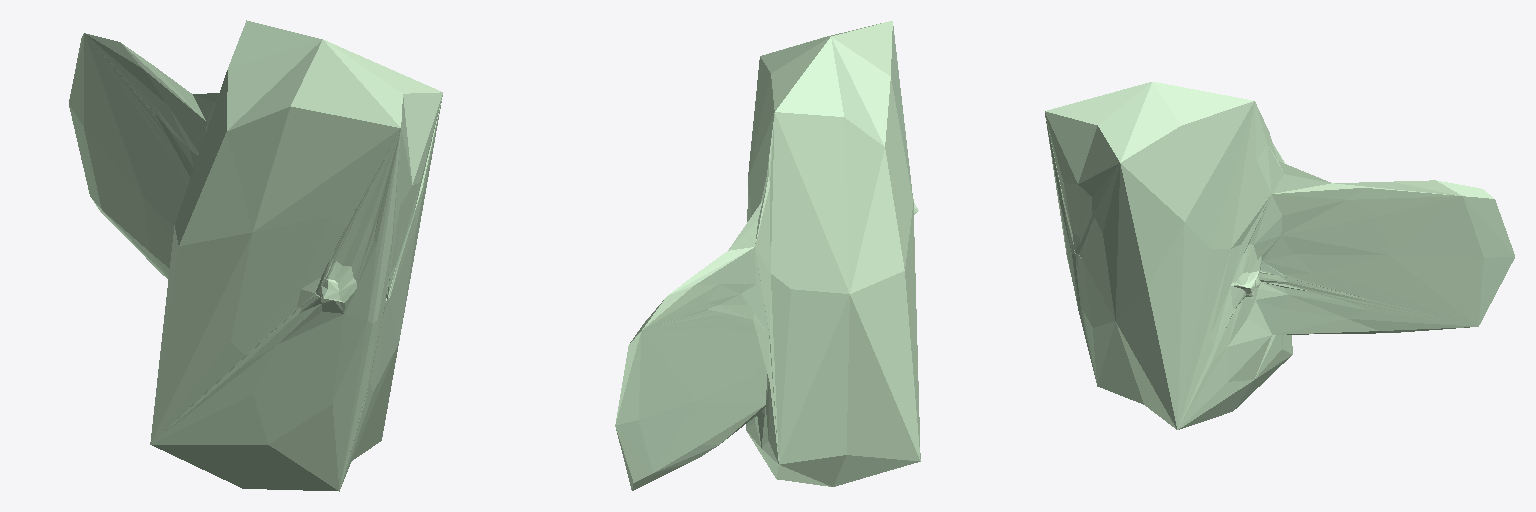
URDF robot description (blob402):

<robot name="blob402">
  <link name="random_obj_402">
    <contact>
      <lateral_friction value="1.0"/>
      <rolling_friction value="0.0"/>
      <inertia_scaling value="3.0"/>
      <contact_cfm value="0.0"/>
      <contact_erp value="1.0"/>
    </contact>
    <inertial>
      <origin rpy="0 0 0" xyz="0 0 0"/>
      <mass value="0.1033"/>
      <inertia ixx="1" ixy="0" ixz="0" iyy="1" iyz="0" izz="0"/>
    </inertial>
    <visual>
      <origin rpy="0 0 0" xyz="0 0 0"/>
      <geometry>
        <mesh filename="402.obj" scale="0.0095 0.0095 0.0095"/>
      </geometry>
      <material name="blockmat">
        <color rgba="0.85 0.97 0.84 1"/>
      </material>
    </visual>
    <collision>
      <origin rpy="0 0 0" xyz="0 0 0"/>
      <geometry>
        <mesh filename="402_coll.obj" scale="0.0095 0.0095 0.0095"/>
      </geometry>
    </collision>
  </link>
</robot>

--- What the picture shows (computed from the rendered views, not written in the file) ---
The picture shows the robot from 3 angles, left to right: view 1: azimuth 30°, elevation 25°; view 2: azimuth 150°, elevation 25°; view 3: azimuth 270°, elevation 25°; orthographic projection.
Robot: blob402 — 1 links, 0 joints (none); root link random_obj_402; default pose: every joint at zero.
Visible links, largest first — view 1: random_obj_402; view 2: random_obj_402; view 3: random_obj_402.
Link boxes in pixels (left/top/right/bottom): random_obj_402: left=69, top=20, right=442, bottom=491; random_obj_402: left=615, top=21, right=920, bottom=490; random_obj_402: left=1045, top=82, right=1514, bottom=429.
Bounding box of the posed robot: 0.0612 × 0.1436 × 0.1142 m (x, y, z).
Meshes: 1 distinct files referenced, 1 mesh visuals loaded (1 OBJ).
